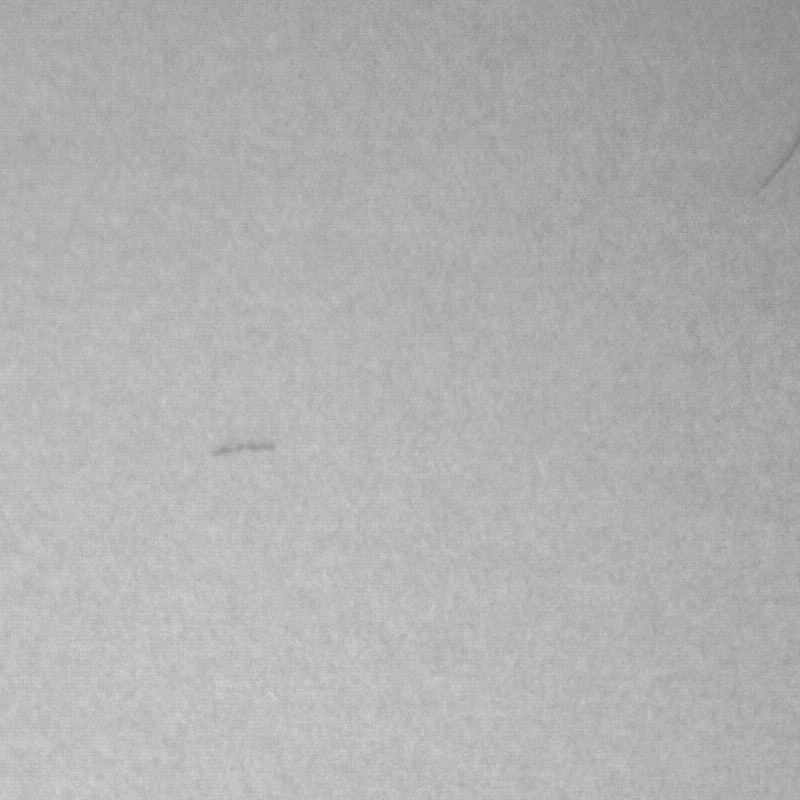defect: (754, 137, 798, 195), (194, 442, 278, 459)
